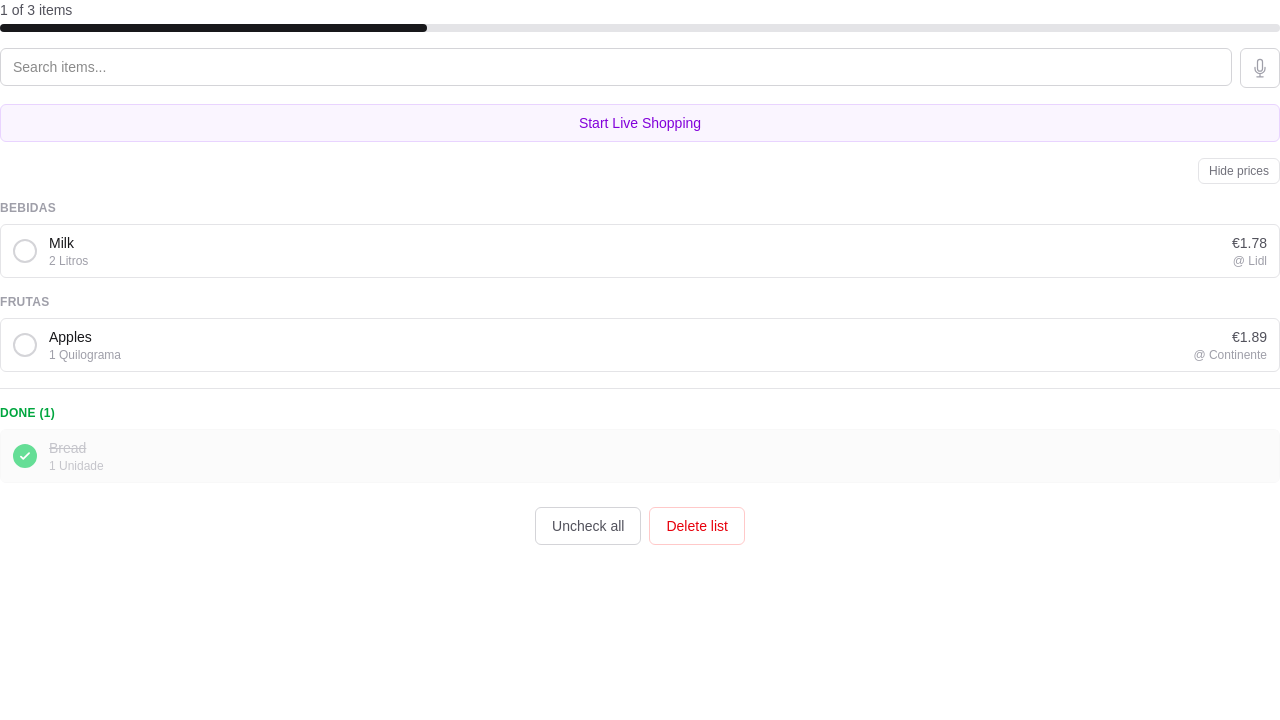
ShoppingList › shows confirm dialog when Uncheck all is clicked
Click the button "Uncheck all" at (588, 526), box [535, 507, 642, 545]
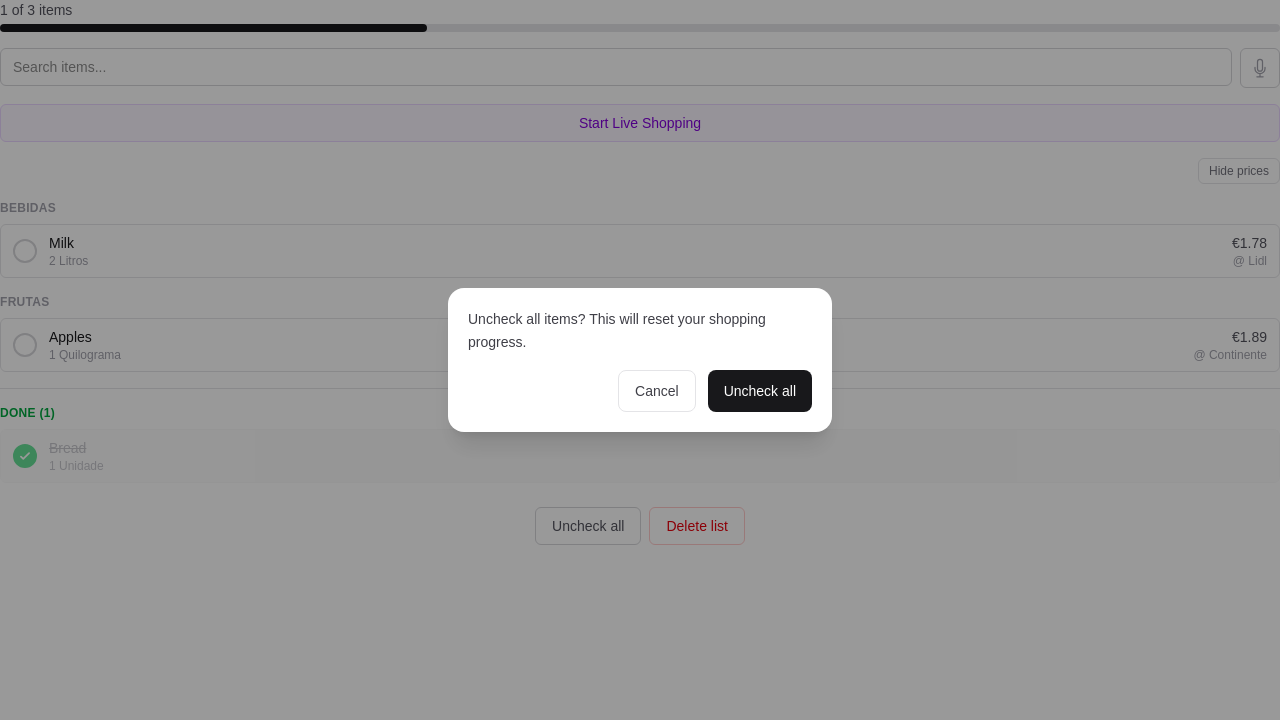
Expected: the dialog is shown, [448, 288, 832, 432]
Expected: the text "Uncheck all items? This will reset your shopping progress." is shown, [468, 308, 812, 354]
